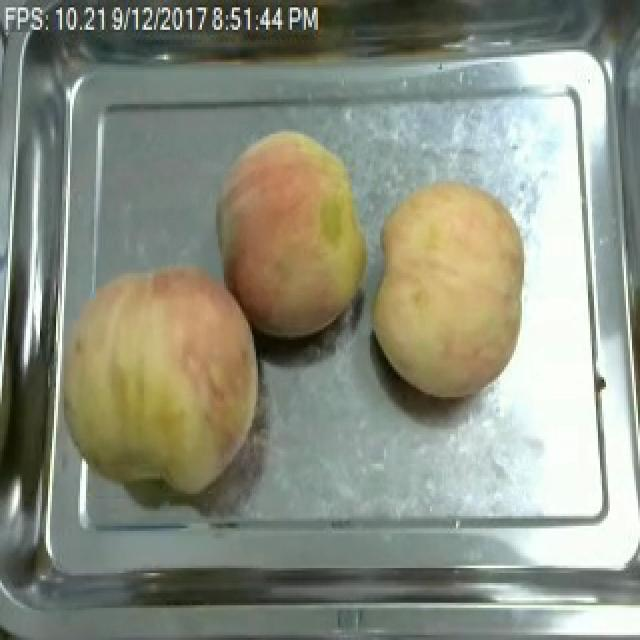Fruit: (36, 256, 270, 504), (368, 172, 538, 404), (208, 121, 378, 345)
